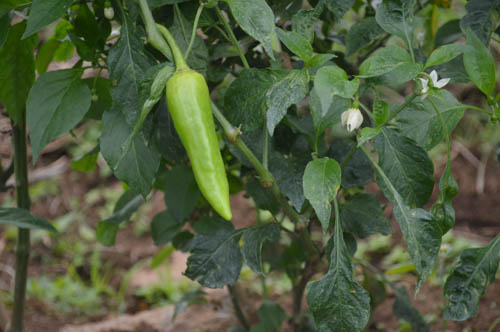ChiliPepper: (168, 73, 234, 221)
